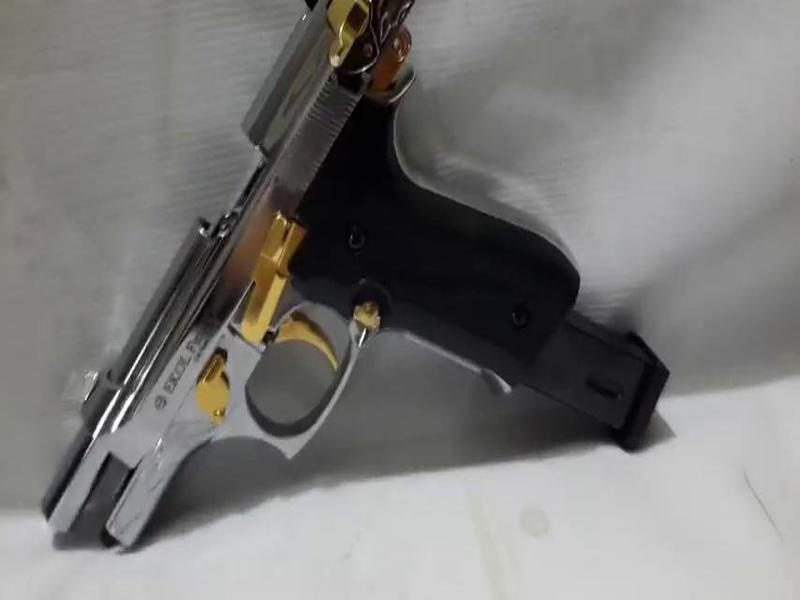Pistola: (33, 1, 585, 567)
